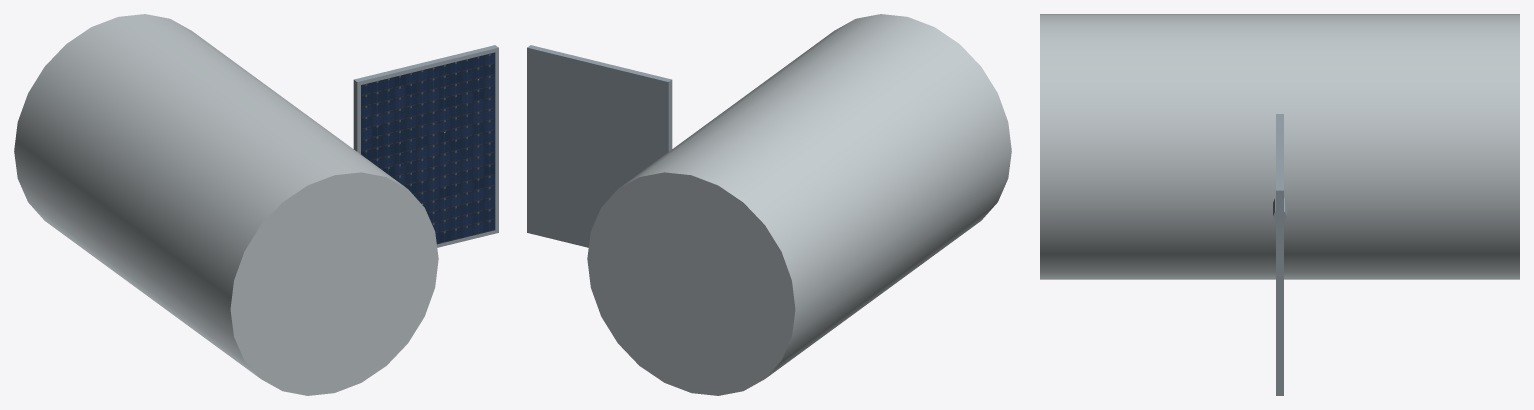
The model's file is ref-iras-13777.glb.
3 renders of one model, left to right at view 1: azimuth 30°, elevation 25°; view 2: azimuth 150°, elevation 25°; view 3: azimuth 270°, elevation 25°, orthographic. The views are drawn at different scales.
Visible parts, largest first — view 1: Spacecraft body, Photovoltaic laminates, Array frame; view 2: Spacecraft body, Array frame; view 3: Spacecraft body, Array frame.
Part boxes in pixels (bbox=[...]): Spacecraft body: bbox=[14, 14, 438, 395]; Photovoltaic laminates: bbox=[361, 52, 495, 244]; Array frame: bbox=[353, 45, 498, 247]; Spacecraft body: bbox=[587, 14, 1011, 395]; Array frame: bbox=[527, 45, 672, 247]; Spacecraft body: bbox=[1040, 14, 1519, 279]; Array frame: bbox=[1276, 114, 1283, 395].
Bounding box in the file's own units: 3.6 × 2 × 3.6.
Materials: 3 (1 with a texture image).
